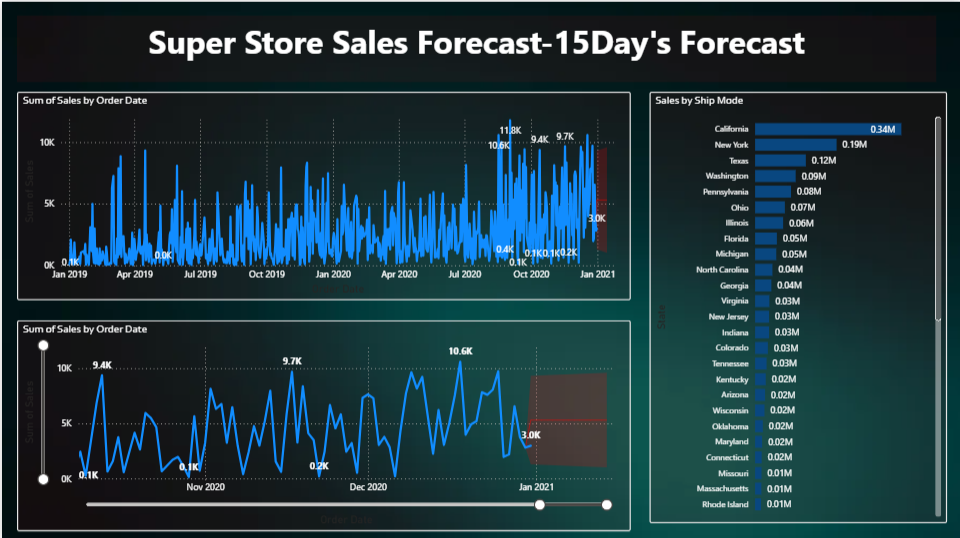

This screenshot's page, from the dashboard's own definition file:
{"tool":"powerbi","page":{"name":"Page 2","canvas":[1280,720],"ordinal":1},"visuals":[{"type":"lineChart","fields":{"Y":["Sum(Table1.Sales)"],"Category":["Table1.Order Date"]},"box":[20,120,818.6,278.6],"z":0},{"type":"lineChart","fields":{"Y":["Sum(Table1.Sales)"],"Category":["Table1.Order Date"]},"box":[20,425.7,818.6,281.4],"z":1000},{"type":"clusteredBarChart","title":"Sales by Ship Mode","fields":{"Y":["Sum(Table1.Sales)"],"Category":["Table1.State"]},"box":[862.9,120,397.1,575.7],"z":2000},{"type":"textbox","box":[20,18.6,1225.7,88.6],"z":3000}]}

Visuals, with their boxes in screenshot pixels (x1, y1, x2, y2), scaled from the page's 1280x720 canvas onto the 960x538 screenshot:
lineChart - Sum(Table1.Sales) x Table1.Order Date: {"left": 15, "top": 90, "right": 629, "bottom": 298}
lineChart - Sum(Table1.Sales) x Table1.Order Date: {"left": 15, "top": 318, "right": 629, "bottom": 528}
"Sales by Ship Mode" clusteredBarChart: {"left": 647, "top": 90, "right": 945, "bottom": 520}
textbox: {"left": 15, "top": 14, "right": 934, "bottom": 80}
